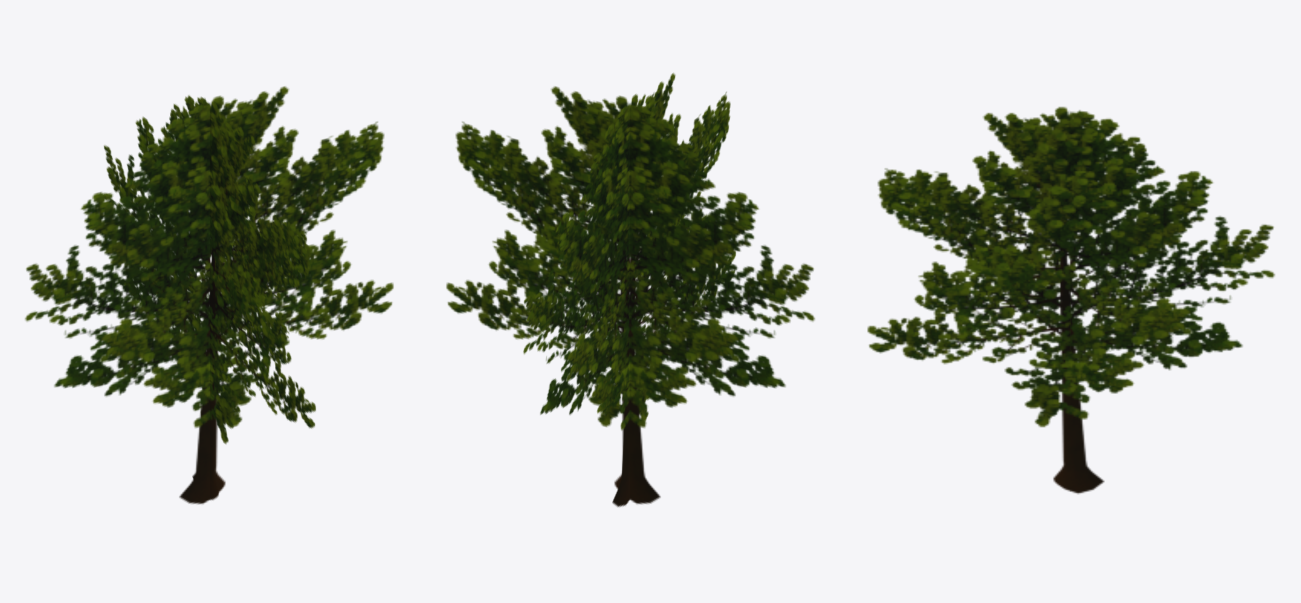
File: tree.glb
3 renders of one model, left to right at view 1: azimuth 30°, elevation 25°; view 2: azimuth 150°, elevation 25°; view 3: azimuth 270°, elevation 25°, orthographic. The views are drawn at different scales.
Visible parts, largest first — view 1: Tree01.001; view 2: Tree01.001; view 3: Tree01.001.
Boxes of the visible parts, <box> form: Tree01.001: <box>25,86,393,504</box>; Tree01.001: <box>446,73,814,506</box>; Tree01.001: <box>867,107,1274,493</box>.
Size of the model in its own units: 15.53 by 15.53 by 15.53.
1 material, 1 textured.
